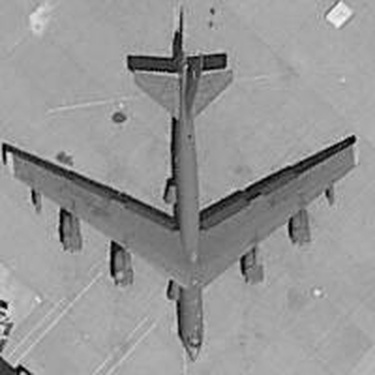airplane: (1, 16, 363, 367)
